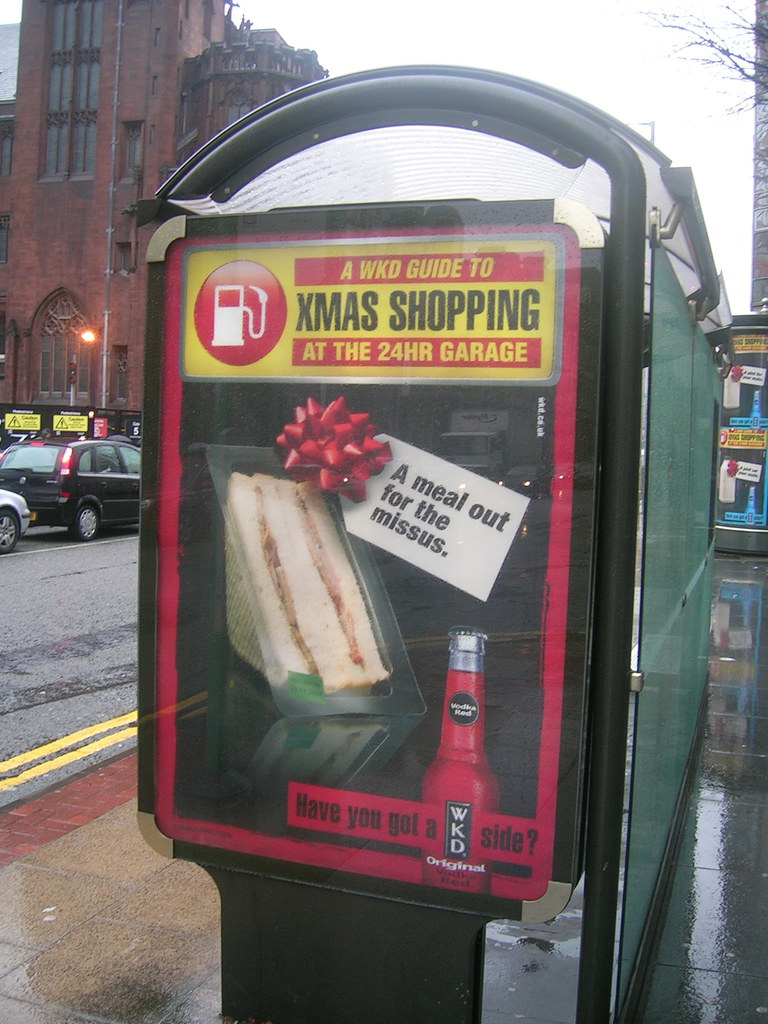Car: (0, 424, 144, 547), (0, 483, 37, 555)
